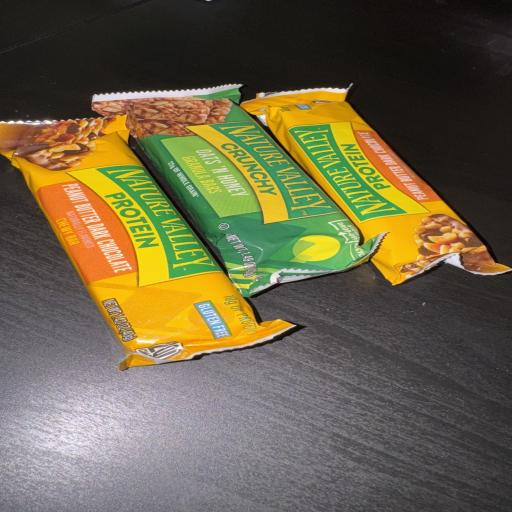granola: (0, 117, 292, 369), (93, 85, 379, 296), (242, 89, 510, 284)
